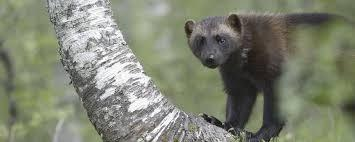Non_Gorille: (185, 2, 355, 142)
